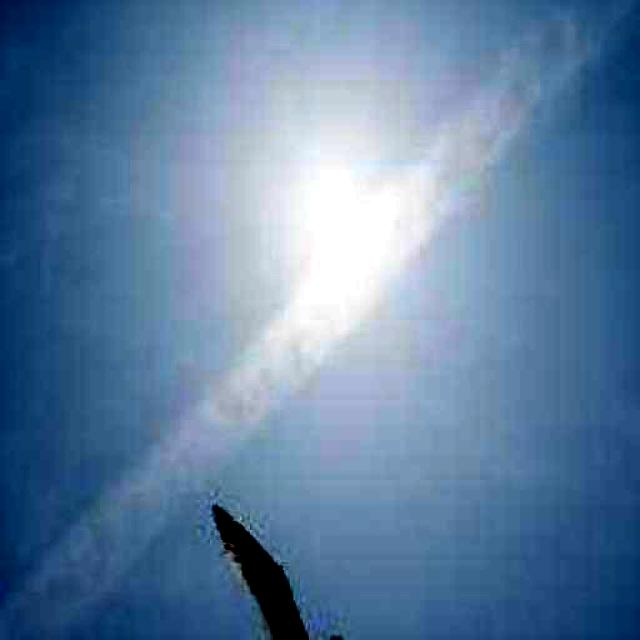airplane: (192, 484, 430, 640)
